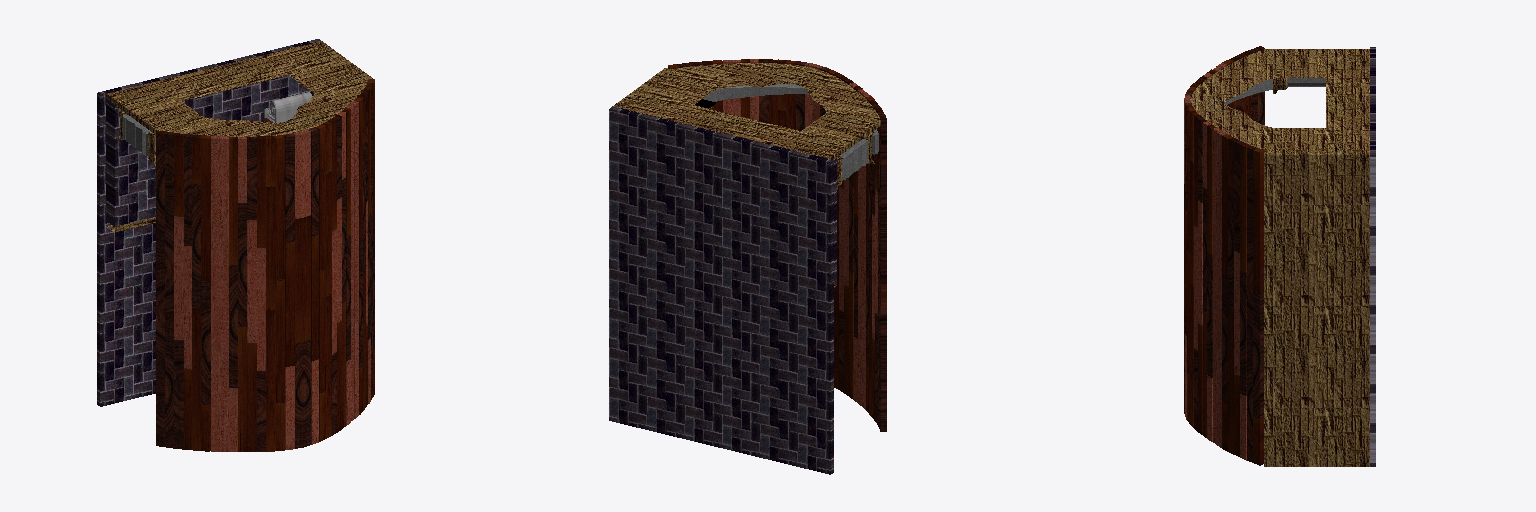
3 views of the same model, side by side, from view 1: azimuth 30°, elevation 25°; view 2: azimuth 150°, elevation 25°; view 3: azimuth 270°, elevation 25° (orthographic).
Parts seen in each view (by area): view 1: CH_CEILING, CH_FLR_ENT, CH_WAL_WND, CH_FLR_ALT, CH_ARCH_3, ALTER; view 2: CH_FLR_ENT, CH_CEILING, CH_WAL_WND, CH_ARCH_3; view 3: CH_WAL_RT, CH_CEILING, CH_WAL_WND, CH_FLR_ENT, CH_ARCH_3.
Part boxes in pixels (left/top/right/bottom): CH_CEILING: left=156, top=79, right=374, bottom=451; CH_FLR_ENT: left=97, top=39, right=320, bottom=406; CH_WAL_WND: left=106, top=42, right=367, bottom=137; CH_FLR_ALT: left=106, top=75, right=313, bottom=226; CH_ARCH_3: left=117, top=108, right=155, bottom=167; ALTER: left=264, top=92, right=312, bottom=122; CH_FLR_ENT: left=609, top=106, right=833, bottom=474; CH_CEILING: left=668, top=59, right=886, bottom=431; CH_WAL_WND: left=618, top=63, right=880, bottom=159; CH_ARCH_3: left=703, top=84, right=878, bottom=189; CH_WAL_RT: left=1264, top=152, right=1369, bottom=466; CH_CEILING: left=1184, top=46, right=1264, bottom=465; CH_WAL_WND: left=1190, top=49, right=1369, bottom=151; CH_FLR_ENT: left=1370, top=47, right=1375, bottom=466; CH_ARCH_3: left=1224, top=78, right=1325, bottom=104.
Bounding box in the file's own units: 30.2 × 40.88 × 22.65.
22 materials, 9 textured.